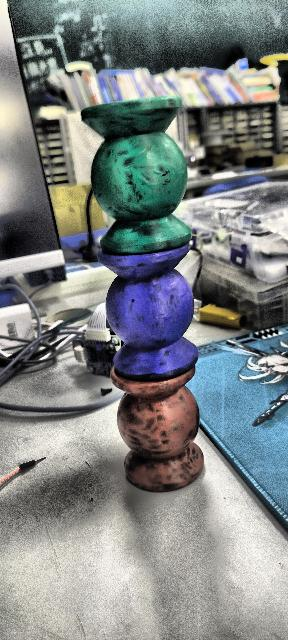blue: (97, 242, 199, 380)
green: (82, 94, 188, 258)
red: (106, 370, 207, 493)
